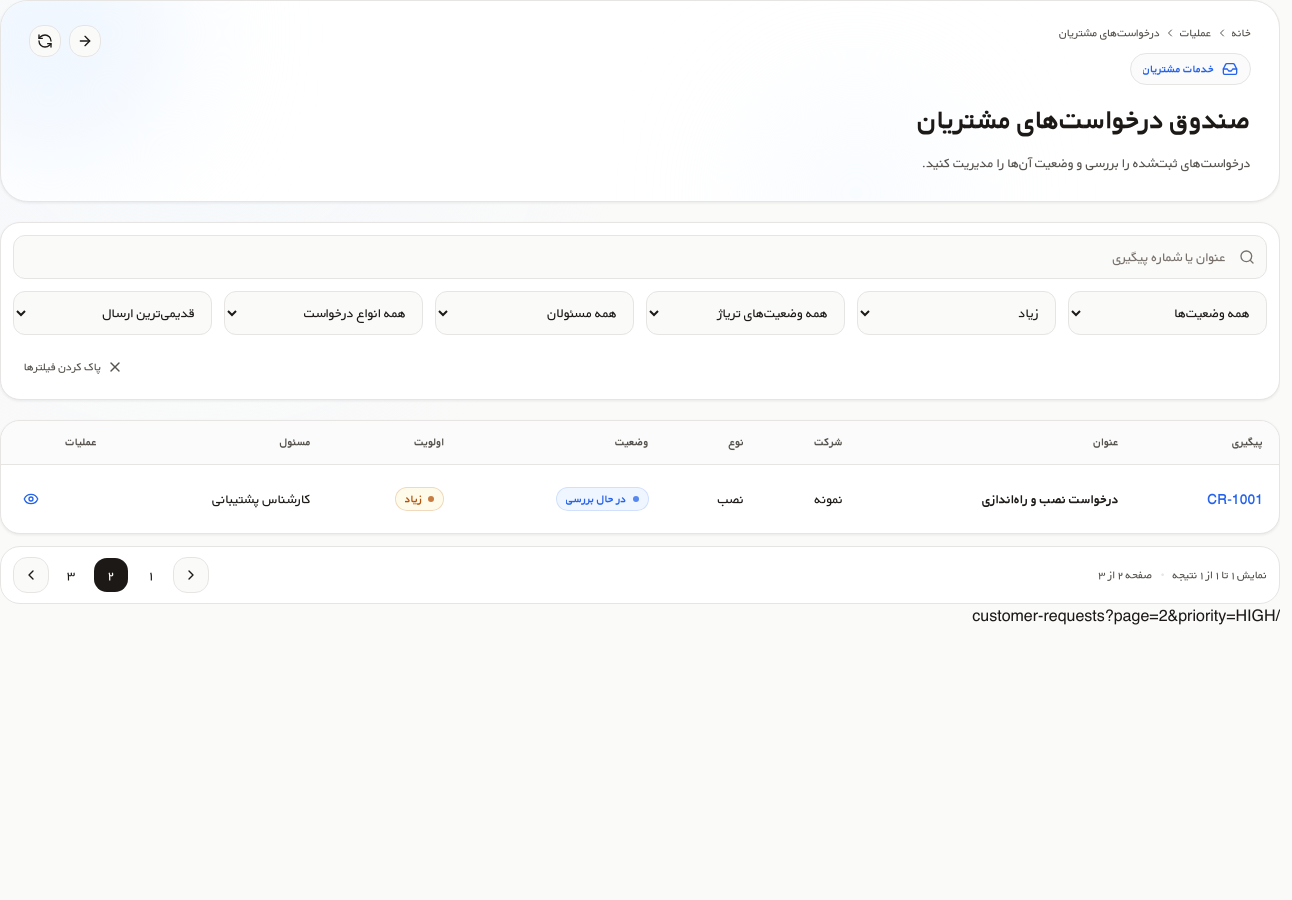
CustomerRequestsInboxPage › preserves server pagination and URL filter state
Click the button named "بعدی": (31, 575) [13,557,49,593]
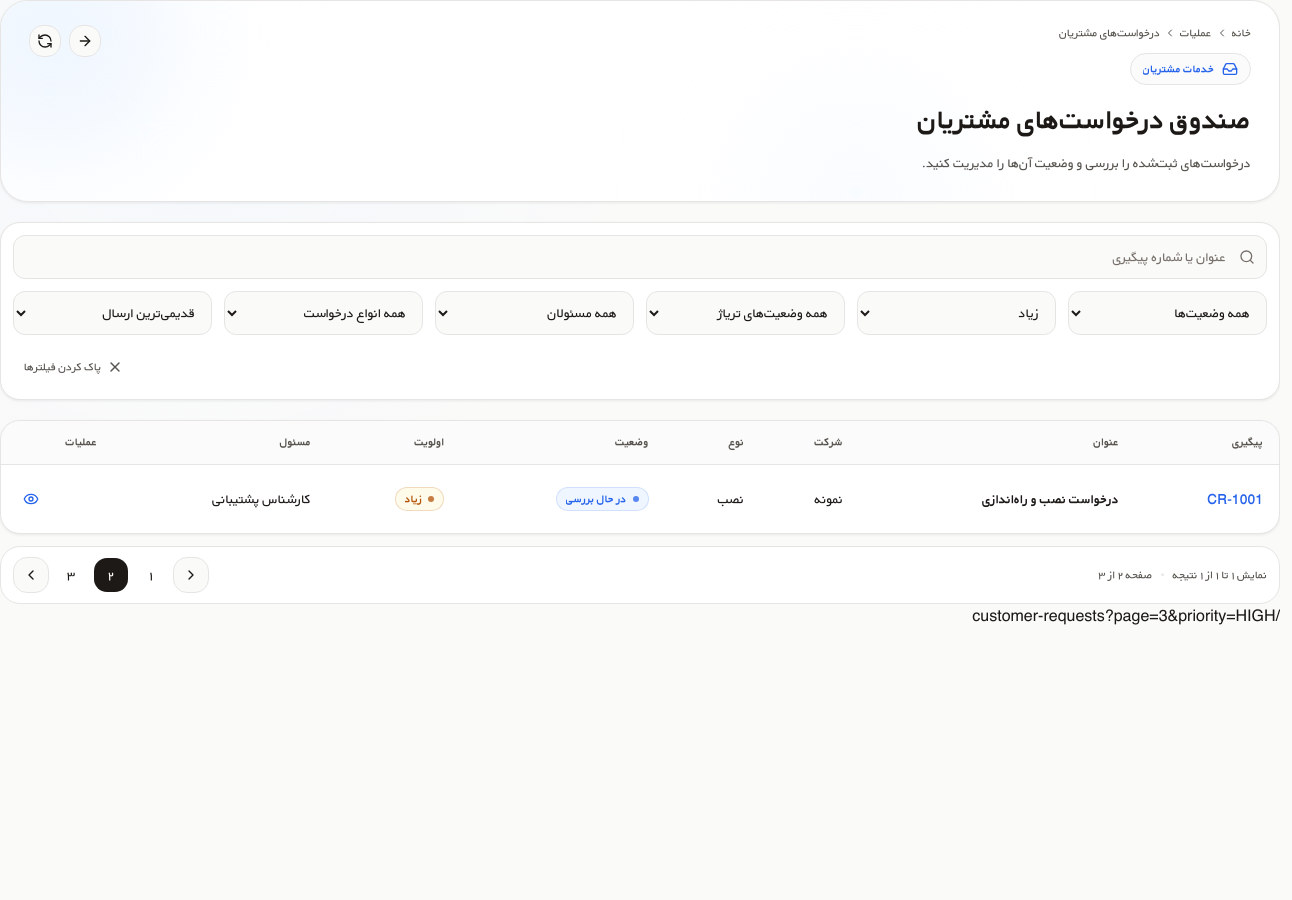
Expected: the text with test id "location" reads "/customer-requests?page=3&priority=HIGH", [972,604,1280,627]
